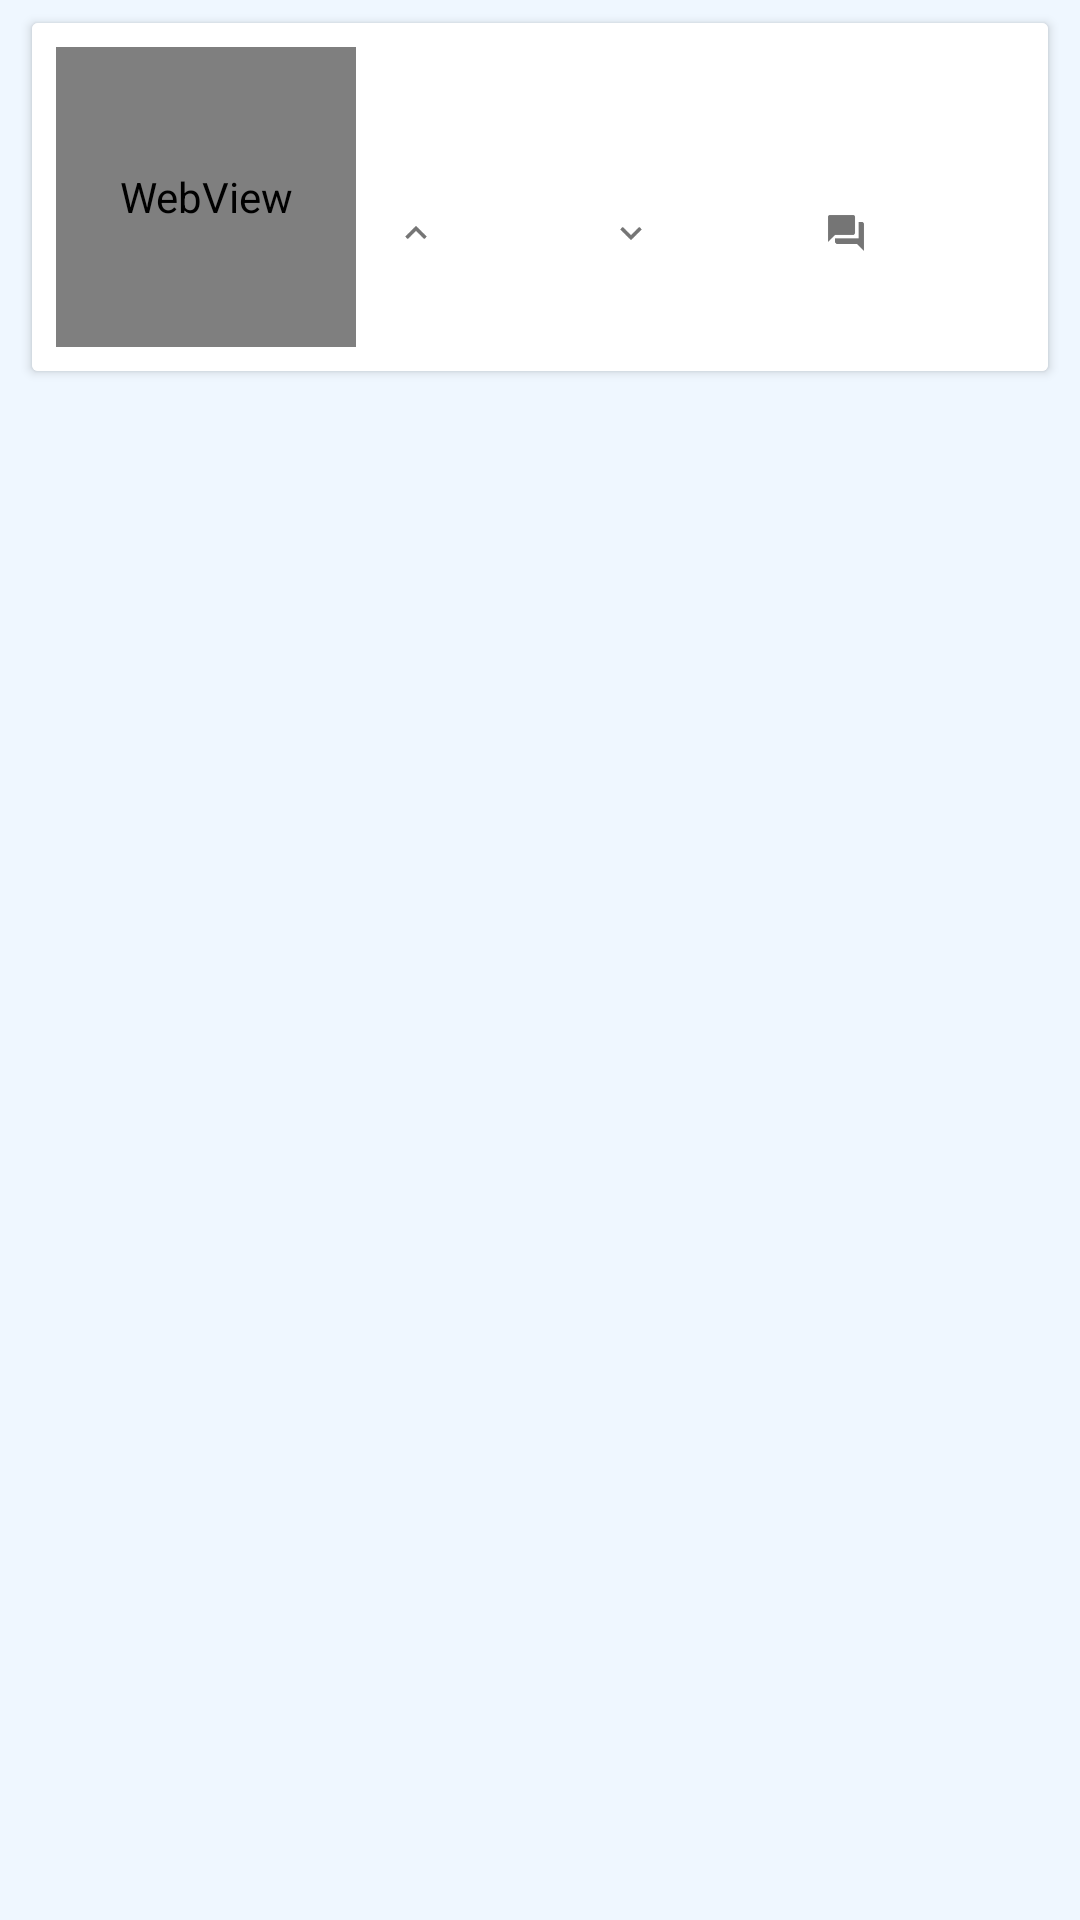

Screen size 1080 × 1920. Icon name, then its box in pixels as [x1,y1,x2,y2]:
question answer: [828,215,864,251]
